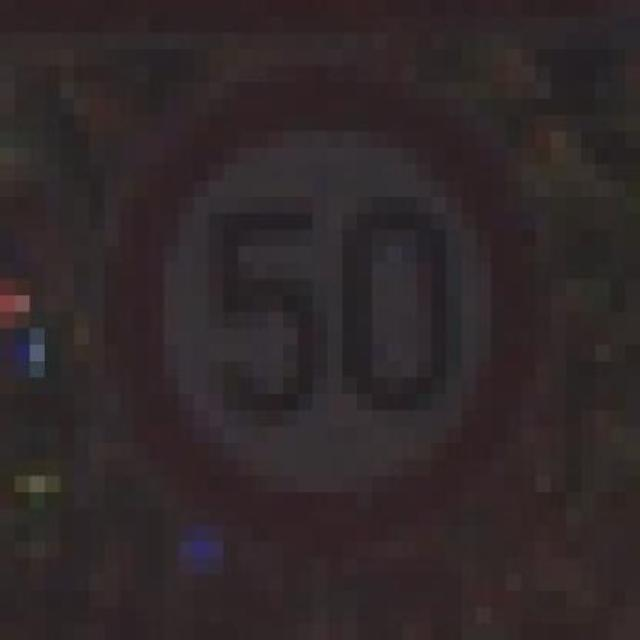50 mph speed limit: (59, 49, 566, 558)
